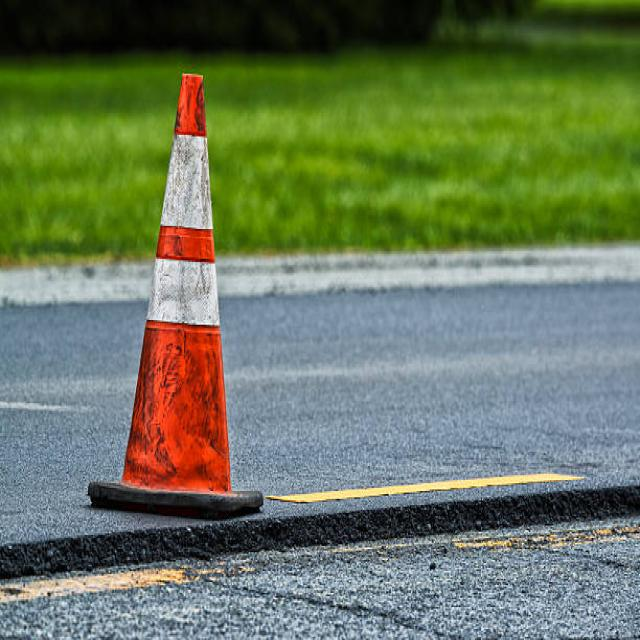Traffic Cone: (74, 21, 274, 545)
